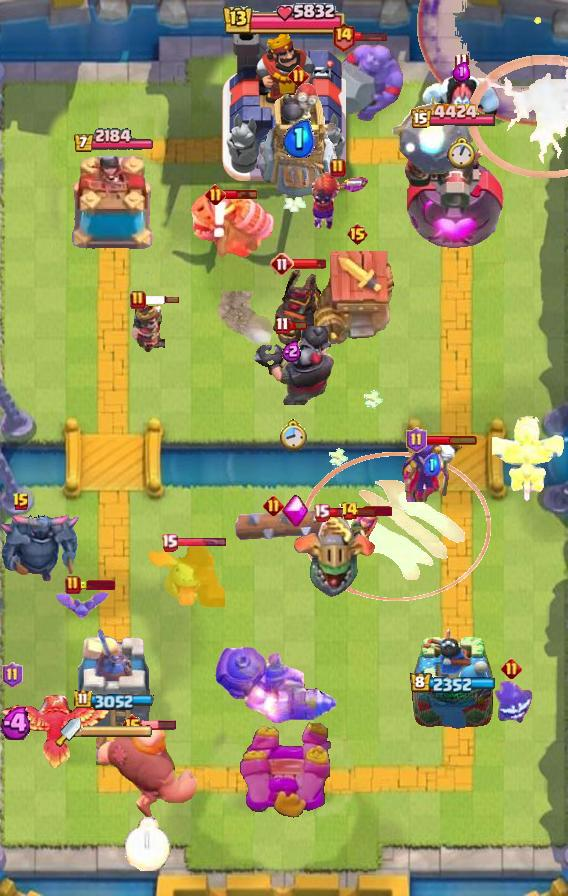archer-evolution: (269, 267, 329, 347)
archer-queen: (321, 41, 403, 125)
axe: (400, 436, 464, 502)
balloon: (96, 723, 200, 823)
bar: (75, 623, 153, 731)
barbarian: (53, 590, 111, 620)
barbarian-evolution: (468, 54, 568, 177)
bomber-evolution: (131, 304, 165, 354)
cannon: (349, 507, 379, 551)
clock: (221, 0, 347, 40)
electro-spirit: (281, 119, 315, 158), (0, 708, 36, 741), (282, 340, 302, 362), (423, 452, 440, 476), (453, 62, 470, 82)
electro-wizard: (143, 545, 225, 607)
elixir: (125, 817, 171, 871), (447, 138, 476, 170), (278, 418, 307, 450)
emote: (426, 434, 479, 446), (175, 537, 227, 548), (327, 507, 377, 518), (223, 188, 259, 200), (291, 258, 327, 270), (141, 719, 177, 731), (352, 30, 387, 42), (144, 295, 180, 305), (356, 506, 392, 516), (79, 580, 115, 590), (288, 320, 308, 331)
fisherman: (212, 292, 275, 352)
golden-knight: (0, 693, 112, 773)
golemite: (0, 511, 84, 583)
ice-wizard: (301, 452, 491, 601)
king-tower: (222, 31, 346, 181)
king-tower-bar: (81, 725, 153, 739)
mini-pekka: (492, 415, 568, 505)
minion: (234, 508, 341, 544)
night-witch: (293, 515, 379, 599), (187, 190, 277, 264)
queen-tower: (68, 156, 160, 256), (411, 627, 495, 731)
rage: (421, 73, 501, 127)
rocket: (416, 1, 567, 128)
royal-guardian: (249, 323, 335, 405)
selected: (411, 103, 498, 131), (73, 128, 155, 154), (410, 673, 496, 695), (74, 689, 154, 711)
skeleton-king-skill: (282, 495, 310, 529)
sparky: (314, 250, 400, 348)
spear-goblin: (489, 679, 533, 727)
tesla-evolution: (307, 168, 369, 230)
text: (332, 21, 357, 52), (270, 252, 294, 276), (347, 222, 370, 246), (120, 713, 143, 737), (405, 427, 426, 453), (2, 662, 23, 688), (206, 183, 227, 205), (263, 495, 284, 517), (288, 65, 309, 86), (501, 658, 522, 679), (340, 501, 359, 521), (12, 492, 30, 512), (313, 503, 330, 522), (162, 533, 179, 552), (330, 158, 346, 178), (130, 290, 146, 310), (65, 575, 81, 595), (454, 52, 469, 71), (275, 316, 289, 335)
tower-bar: (401, 132, 508, 256)
wizard: (214, 646, 338, 724)
x-bow: (390, 96, 473, 176)
zappy: (256, 80, 341, 202)
